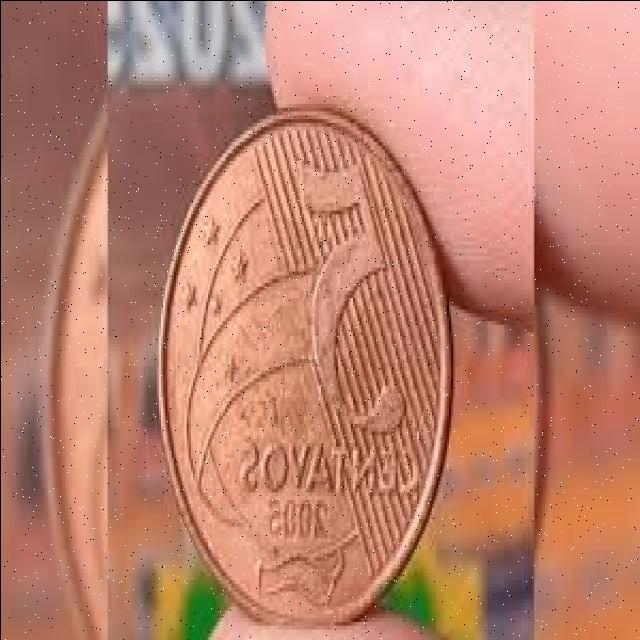5 cent: (159, 104, 450, 628)
